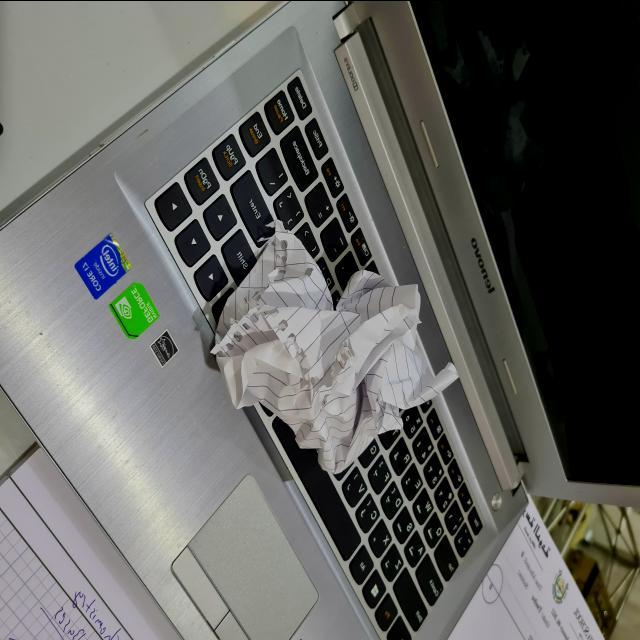Paper: (226, 219, 478, 489)
